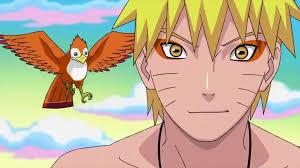Naruto: (135, 2, 283, 142)
